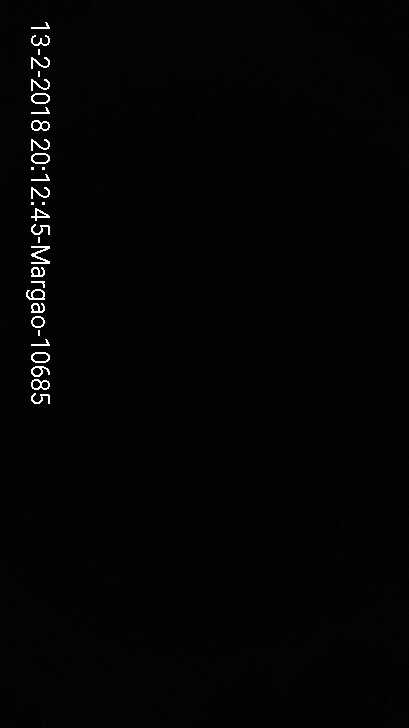reject: (167, 152, 282, 355)
